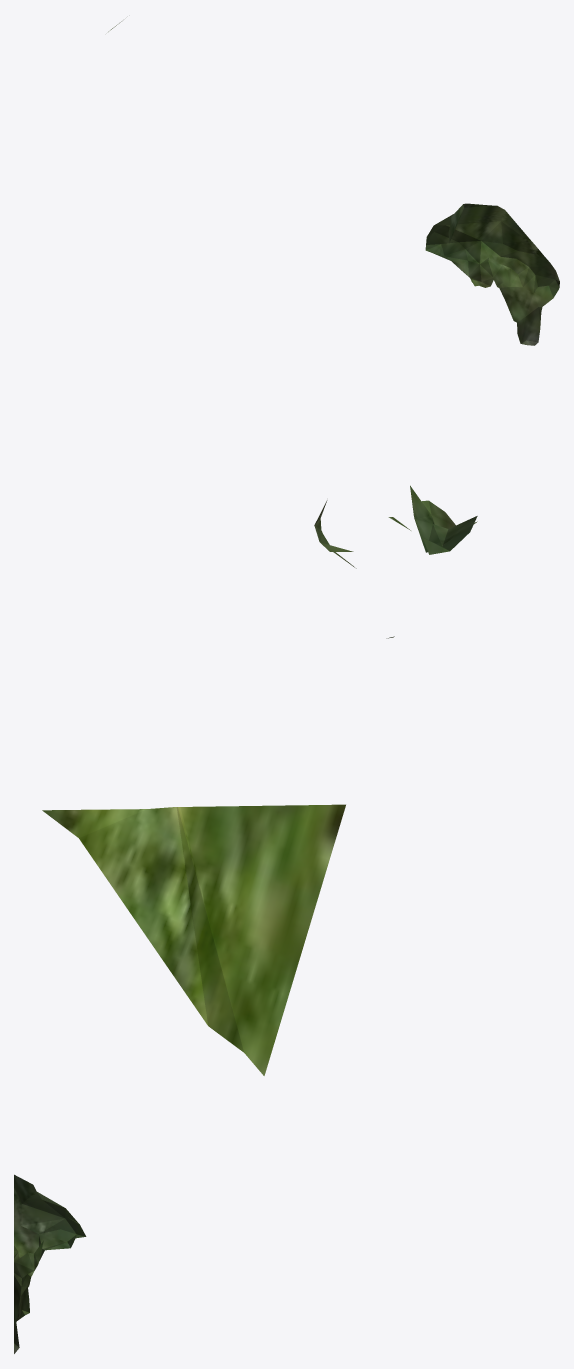
The picture shows the model from 3 angles, top to bottom: view 1: azimuth 30°, elevation 25°; view 2: azimuth 150°, elevation 25°; view 3: azimuth 270°, elevation 25°; orthographic projection. The views are drawn at different scales.
Size of the model in its own units: 1.53 by 0.8437 by 2.95.
Materials: 1 (1 with a texture image).
